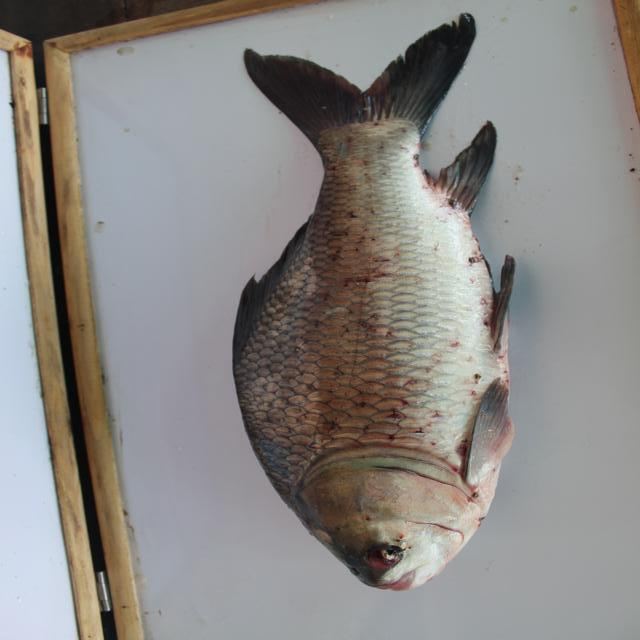Catla: (207, 13, 555, 597)
